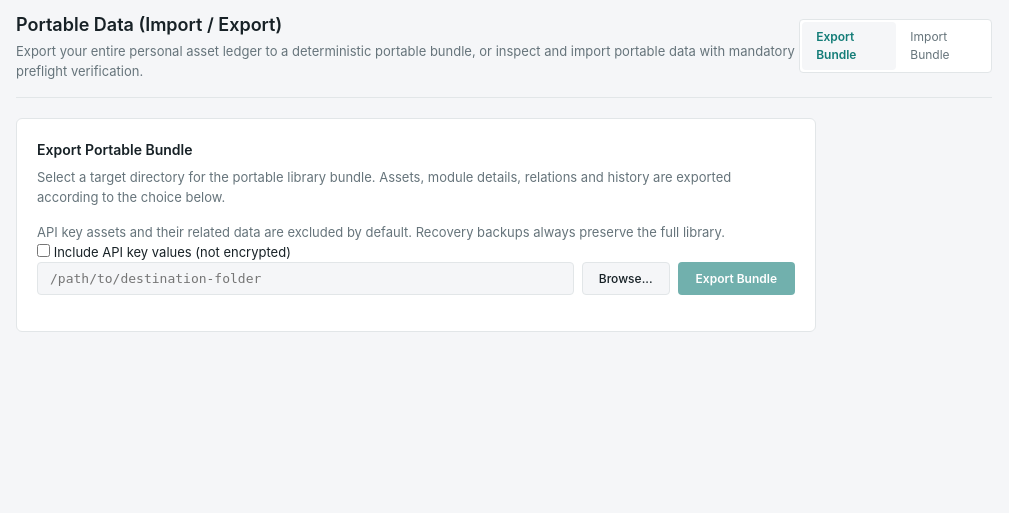
Test: Personal workflows › previews a picked import directory automatically, without applying it
Click the tab with test id "tab-import".
click(943, 46)  # box [896,22,989,70]
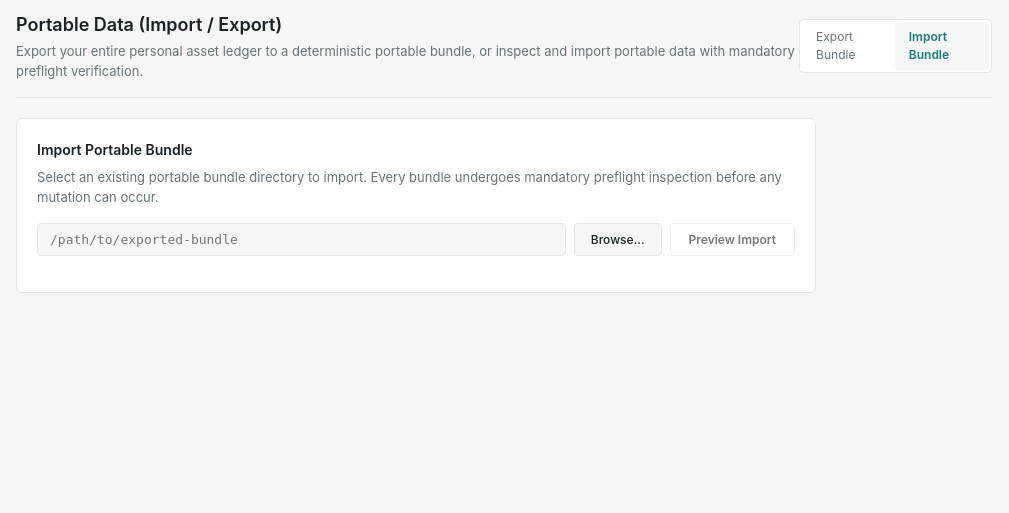
Click the button with test id "import-browse-button".
click(618, 240)  # box [574,223,662,256]
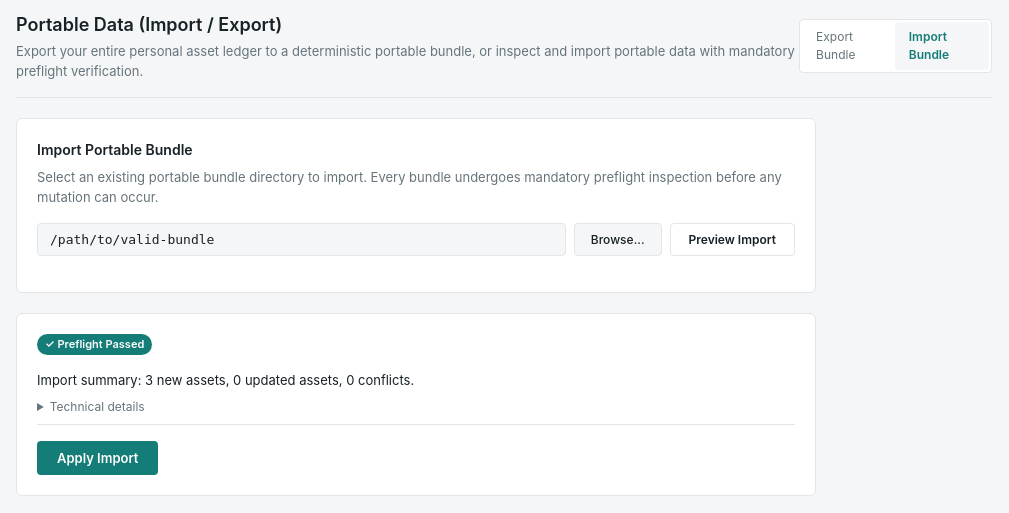
Expected: the text "Import summary: 3 new assets, 0 updated assets, 0 conflicts." is shown, [37,372,414,388]
Expected: the button with test id "apply-import-button" is enabled, [37,441,158,475]
